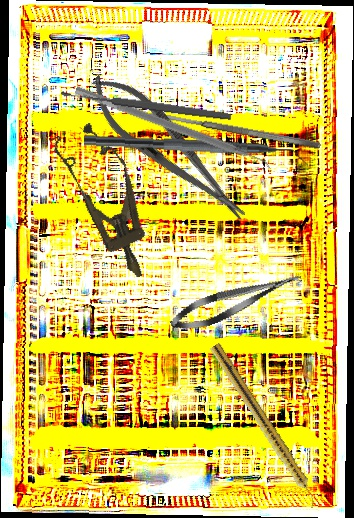Chopper: (83, 135, 309, 169)
Handpiece: (206, 342, 323, 510)
Micro Scissor: (166, 264, 306, 338)
Needle Holder: (76, 60, 260, 237)
Spatula Surgical: (71, 85, 275, 175), (148, 108, 322, 151)
Speculum: (48, 116, 168, 289)
Surgical Spoon: (60, 88, 232, 122)
